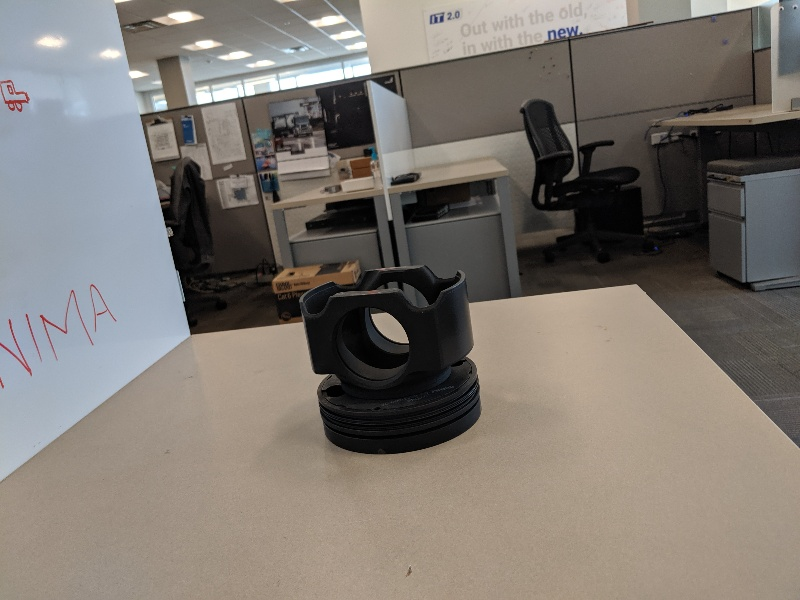piston: (293, 260, 497, 460)
